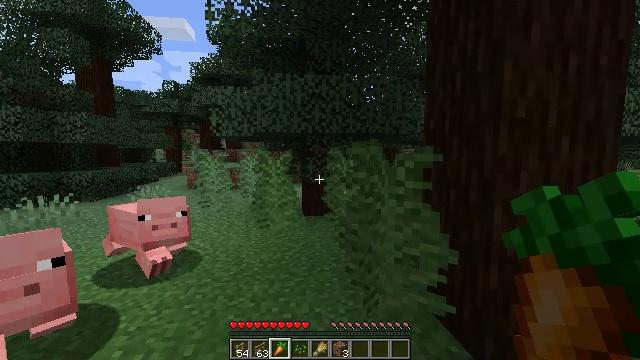pig: (0, 229, 78, 346), (102, 197, 187, 281)
